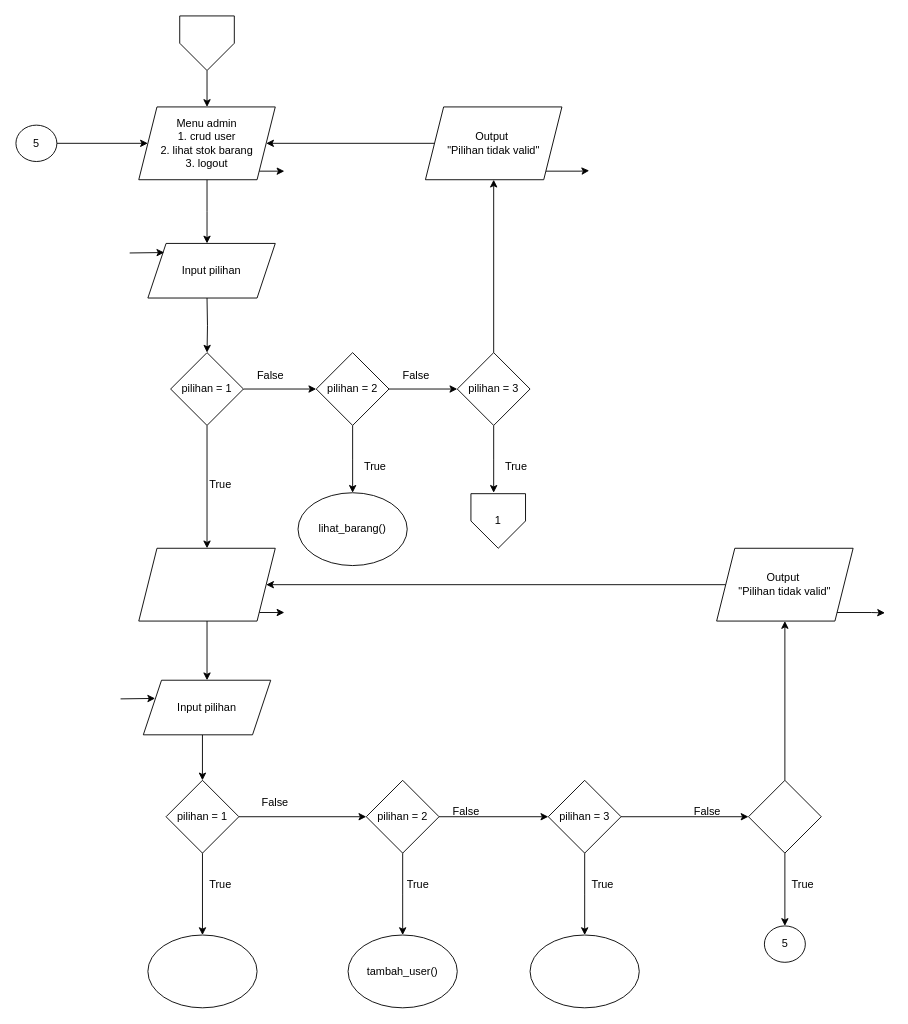
This 908x1024 diagram has some shape labels left out. Here are the shapes that lost their labels. From the top down, the centre of each, then its label:
At (206,43): "admin".
At (206,584): "1. lihat data 2. tambah data 3. hapus data 4. keluar".
At (784,816): "pilihan = 4".
At (202,971): "lihat_user()".
At (584,971): "hapus_user()".
